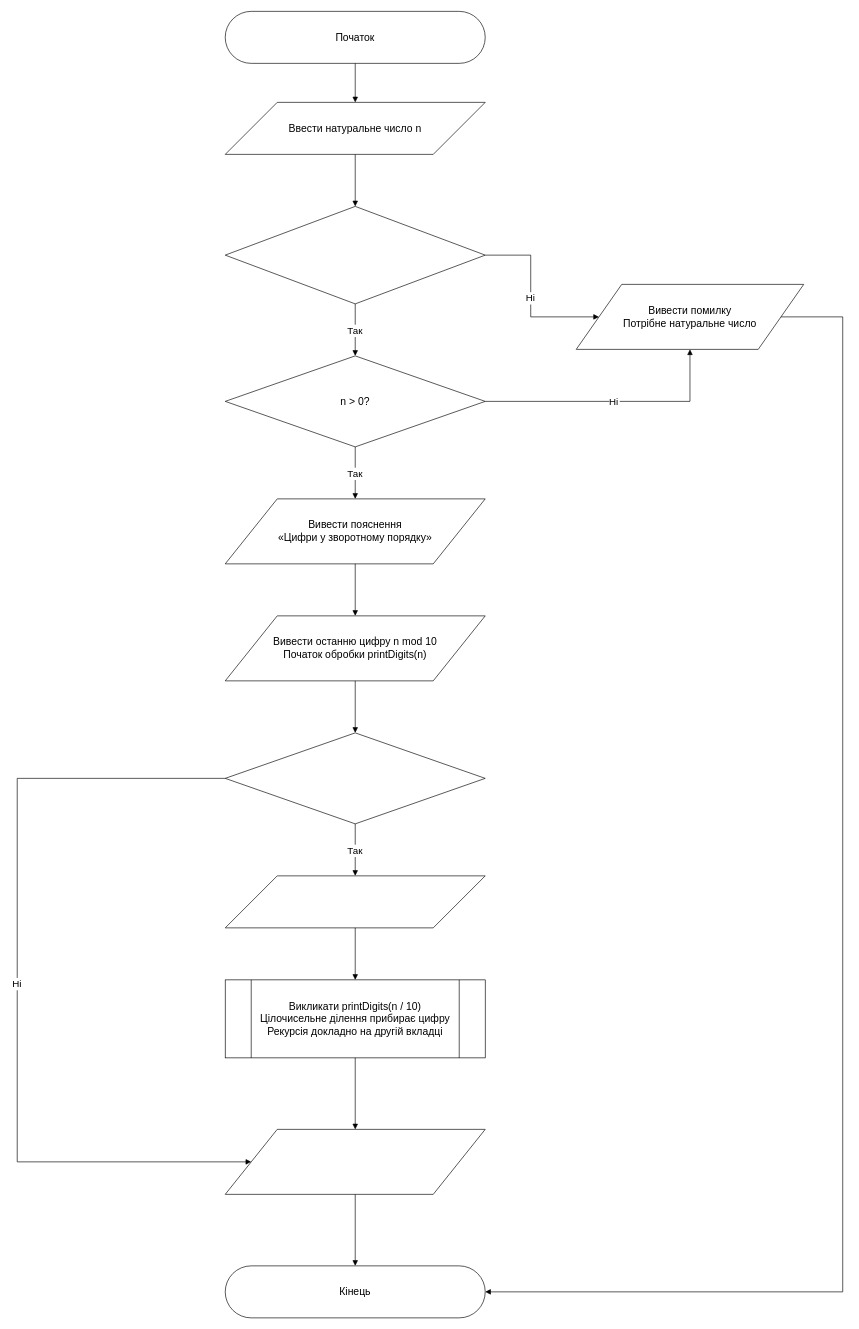
Some shapes in this 859 by 1329 pixel diagram are drawn without their labels. The centre of each missing label's shape, as x and y in pixels:
"n ≥ 10?" goes at (355,778).
"Вивести новий рядок Після завершення всіх викликів" goes at (355,1161).
"Вивести пробіл" goes at (355,901).
"Зчитано ціле число у межах long long?" goes at (355,255).
